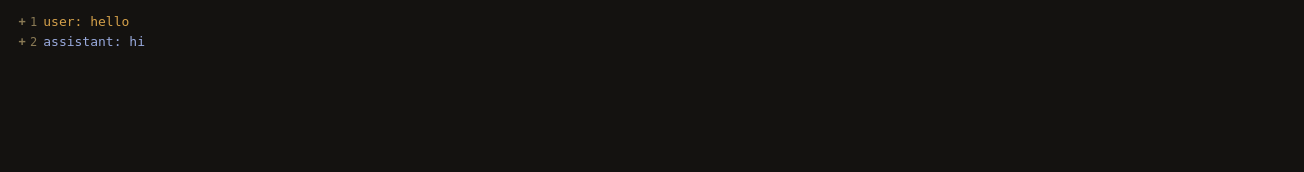
Test: DetailTocTree › collapsing an expanded node hides its children again
Click the button named "expand".
click(22, 22)  # box [14, 15, 30, 30]
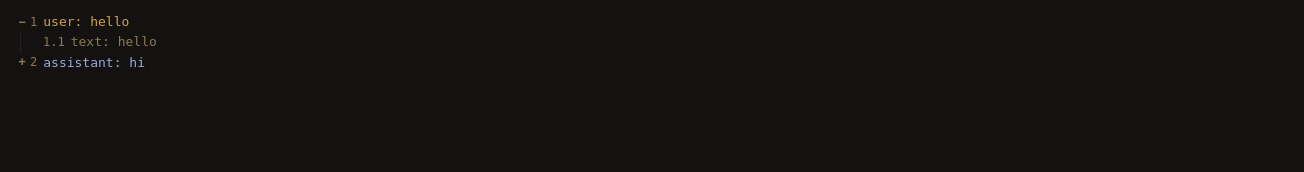
Expected: the button "text: hello" is shown, [71, 32, 1292, 53]
// Now a collapse toggle exists for that node.
Click the button named "collapse".
click(22, 22)  # box [14, 15, 30, 30]
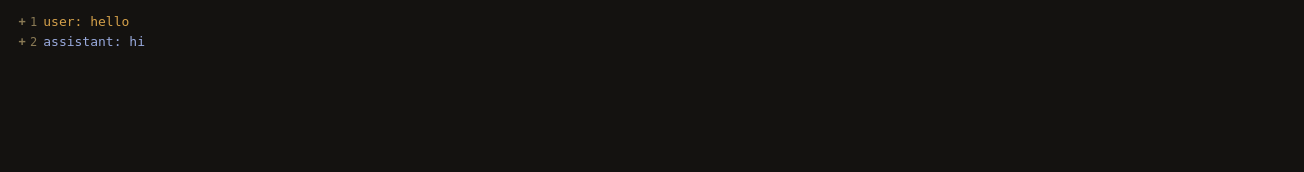
Expected: the button "text: hello" is gone
